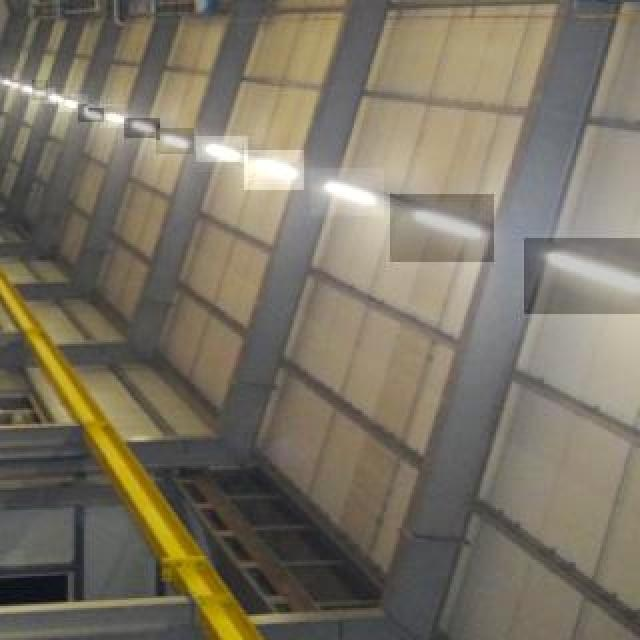fluorescent tube: (544, 240, 640, 298), (400, 205, 485, 247), (317, 171, 379, 209), (194, 132, 251, 172), (244, 152, 300, 184)
